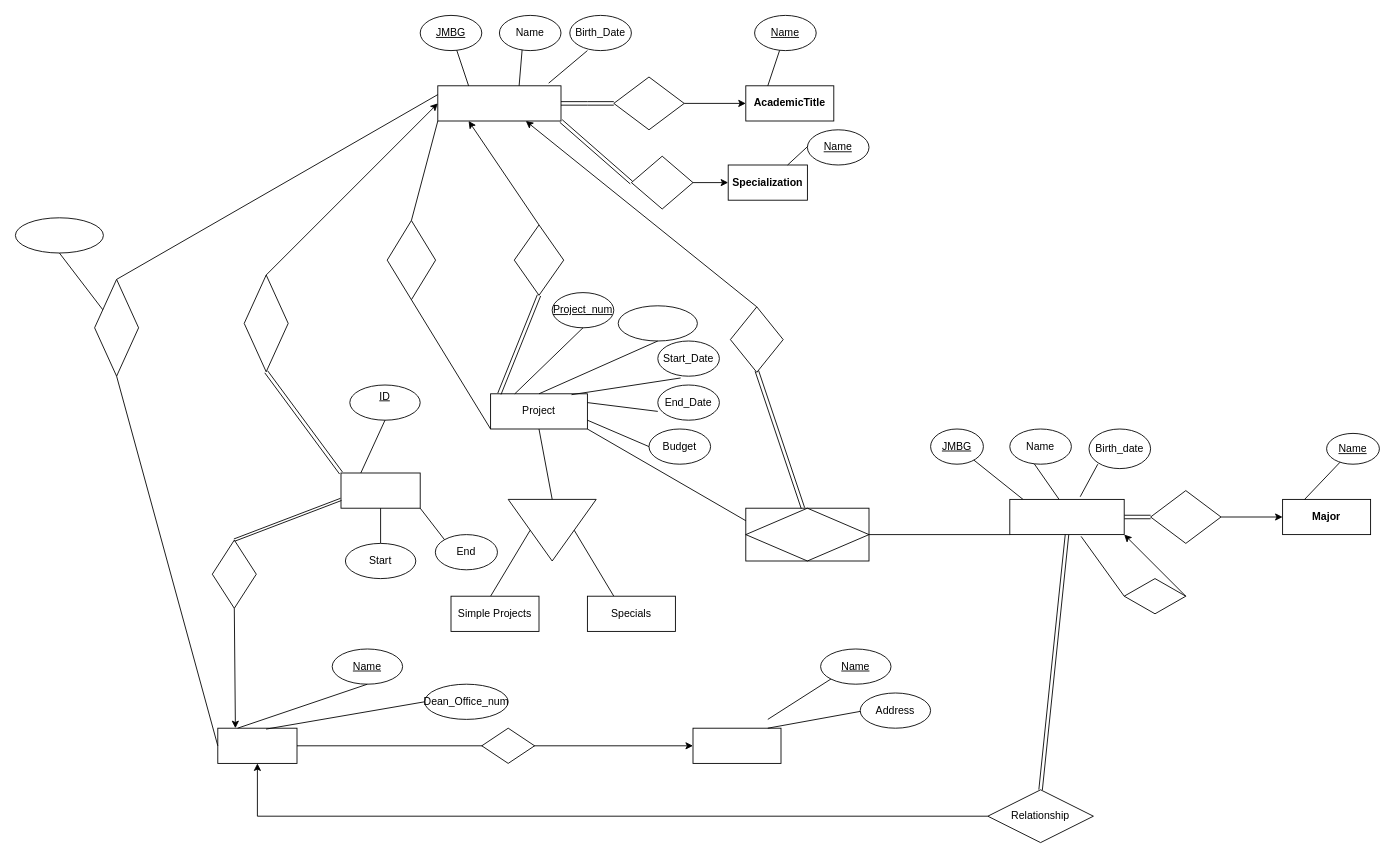
Some shapes in this 1395 by 858 pixel diagram are drawn without their labels. Here are the shapes that lost their labels. From the top down, the centre of each, then its label:
(x=499, y=103): Teacher
(x=59, y=235): Teaching_hours
(x=411, y=260): working
(x=657, y=323): Sponsor_name
(x=380, y=490): Mandat
(x=807, y=534): Student_Project
(x=1066, y=517): PostgraduateStudent
(x=257, y=745): Faculty
(x=736, y=745): Building
